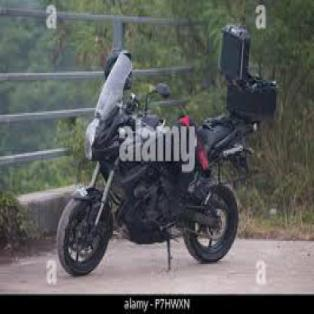Motocicleta: (50, 40, 268, 279)
